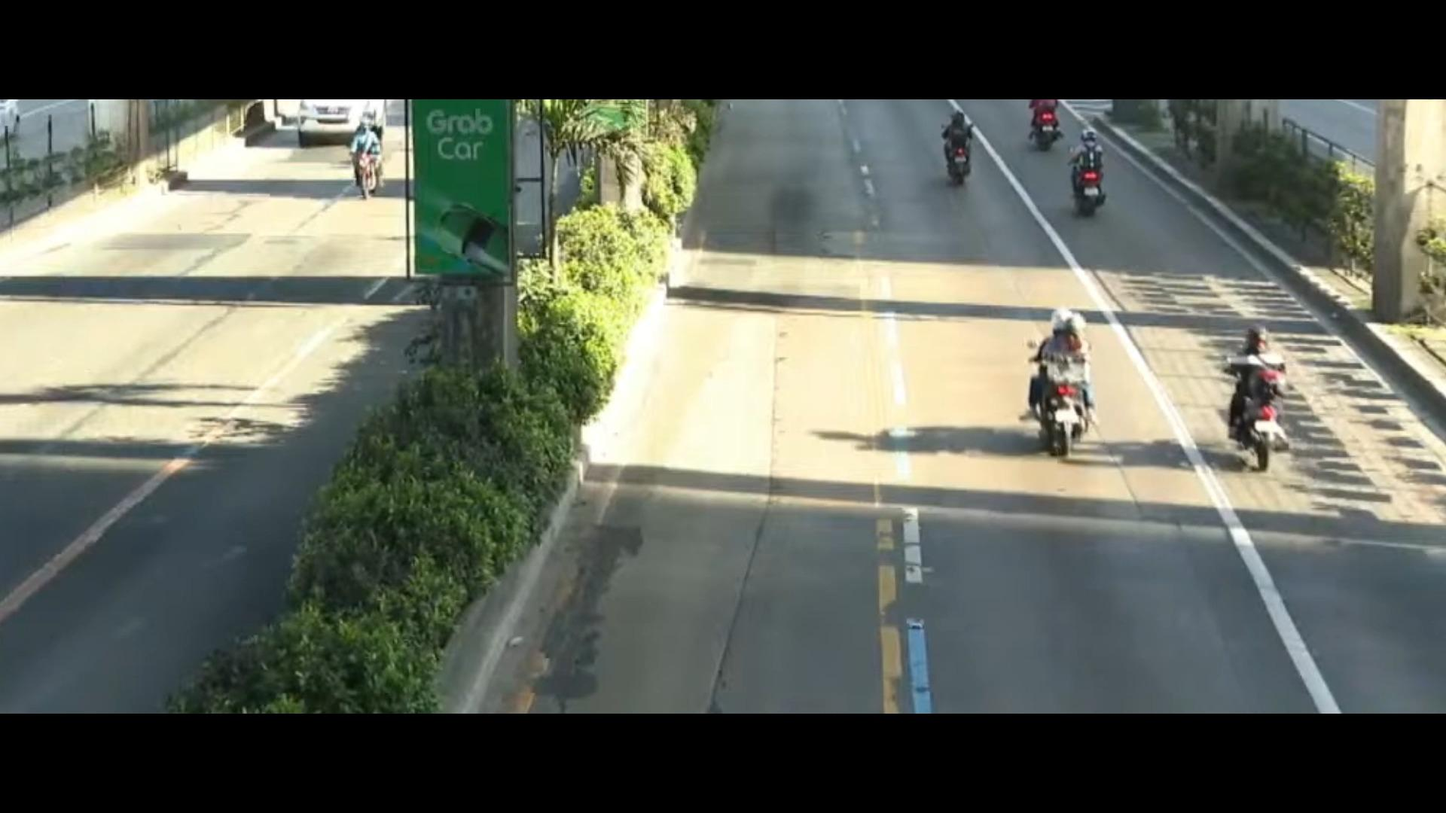Motorcycle: (1207, 320, 1313, 477), (1013, 307, 1123, 455), (926, 106, 1004, 206), (1054, 126, 1119, 233), (348, 117, 400, 208), (1013, 98, 1078, 161)
SUV: (277, 102, 381, 151)
